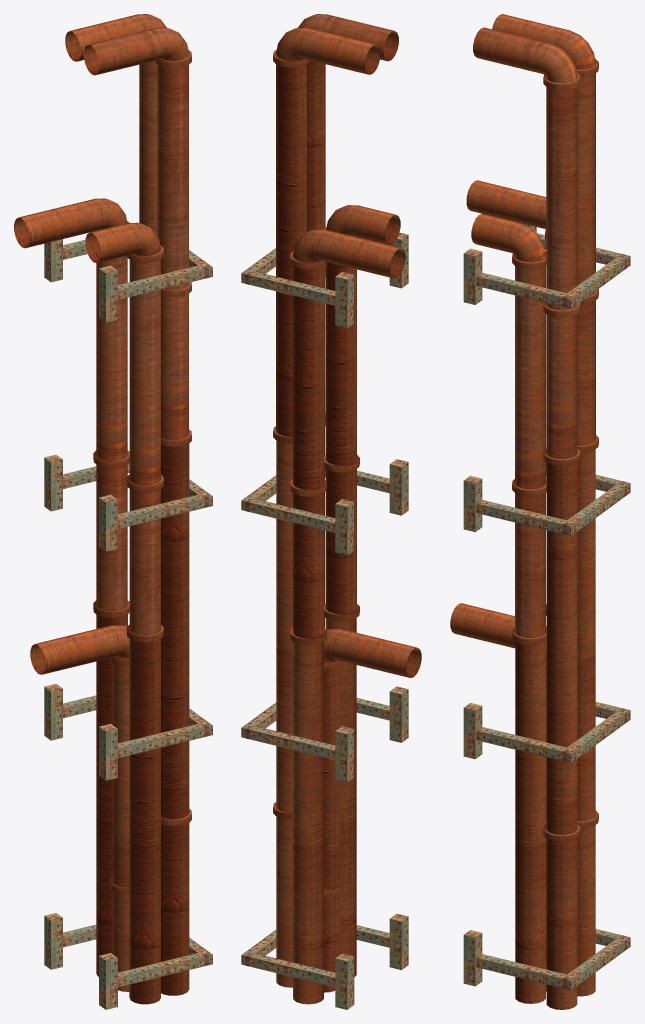
The model's file is pipes_02.fbx.
The picture shows the model from 3 angles, left to right: view 1: azimuth 30°, elevation 25°; view 2: azimuth 150°, elevation 25°; view 3: azimuth 330°, elevation 25°; orthographic projection.
Parts seen in each view (by area): view 1: pipes_02; view 2: pipes_02; view 3: pipes_02.
Boxes of the visible parts, <box> form: pipes_02: <box>14,14,212,1009</box>; pipes_02: <box>241,14,421,1009</box>; pipes_02: <box>450,14,630,1009</box>.
Size of the model in its own units: 1.32 by 8.41 by 0.9762.
